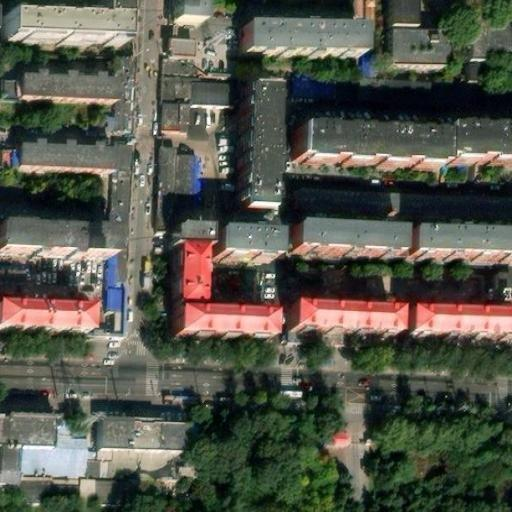building: (290, 186, 507, 224), (301, 124, 445, 165), (4, 1, 132, 42), (241, 83, 277, 206), (21, 425, 98, 477), (243, 23, 362, 54), (19, 137, 127, 171), (155, 147, 200, 226), (174, 306, 278, 339), (80, 477, 189, 508), (98, 417, 191, 452), (20, 69, 120, 101), (293, 231, 403, 260), (407, 309, 512, 338), (293, 305, 400, 333), (97, 449, 190, 480), (0, 300, 90, 332), (409, 238, 512, 265), (444, 123, 512, 161), (109, 171, 127, 312), (105, 57, 135, 136), (389, 29, 444, 68), (470, 6, 508, 62), (217, 228, 281, 259), (175, 245, 207, 306), (0, 475, 56, 502), (287, 75, 337, 104), (161, 58, 193, 103), (192, 81, 244, 104), (160, 102, 190, 130), (470, 61, 507, 81), (176, 225, 211, 246), (168, 38, 193, 58), (1, 80, 20, 101)
